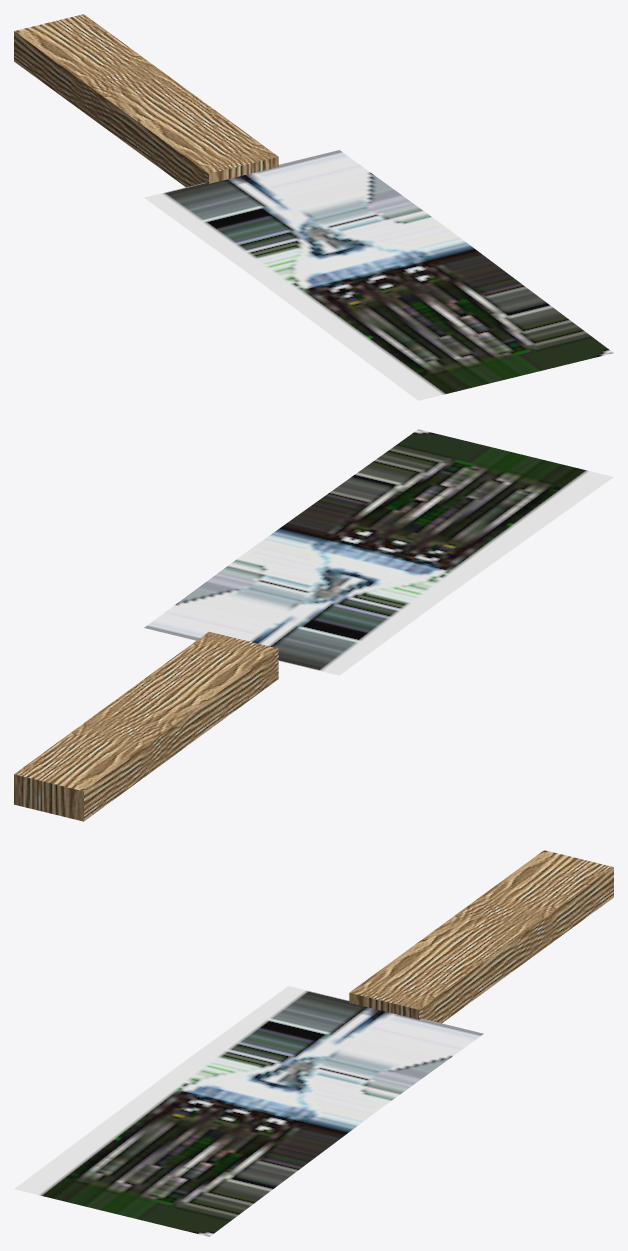
File: Tenedor.fbx
3 views of the same model, one above another, from view 1: azimuth 30°, elevation 25°; view 2: azimuth 150°, elevation 25°; view 3: azimuth 330°, elevation 25° (orthographic).
Visible parts, largest first — view 1: Cube.033; view 2: Cube.033; view 3: Cube.033.
Part boxes in pixels (x1,y1,x2,y2): Cube.033: (14, 14, 613, 400); Cube.033: (14, 429, 613, 821); Cube.033: (14, 850, 613, 1236).
Size of the model in its own units: 138 by 20.42 by 571.
Materials: 2 (2 with a texture image).
